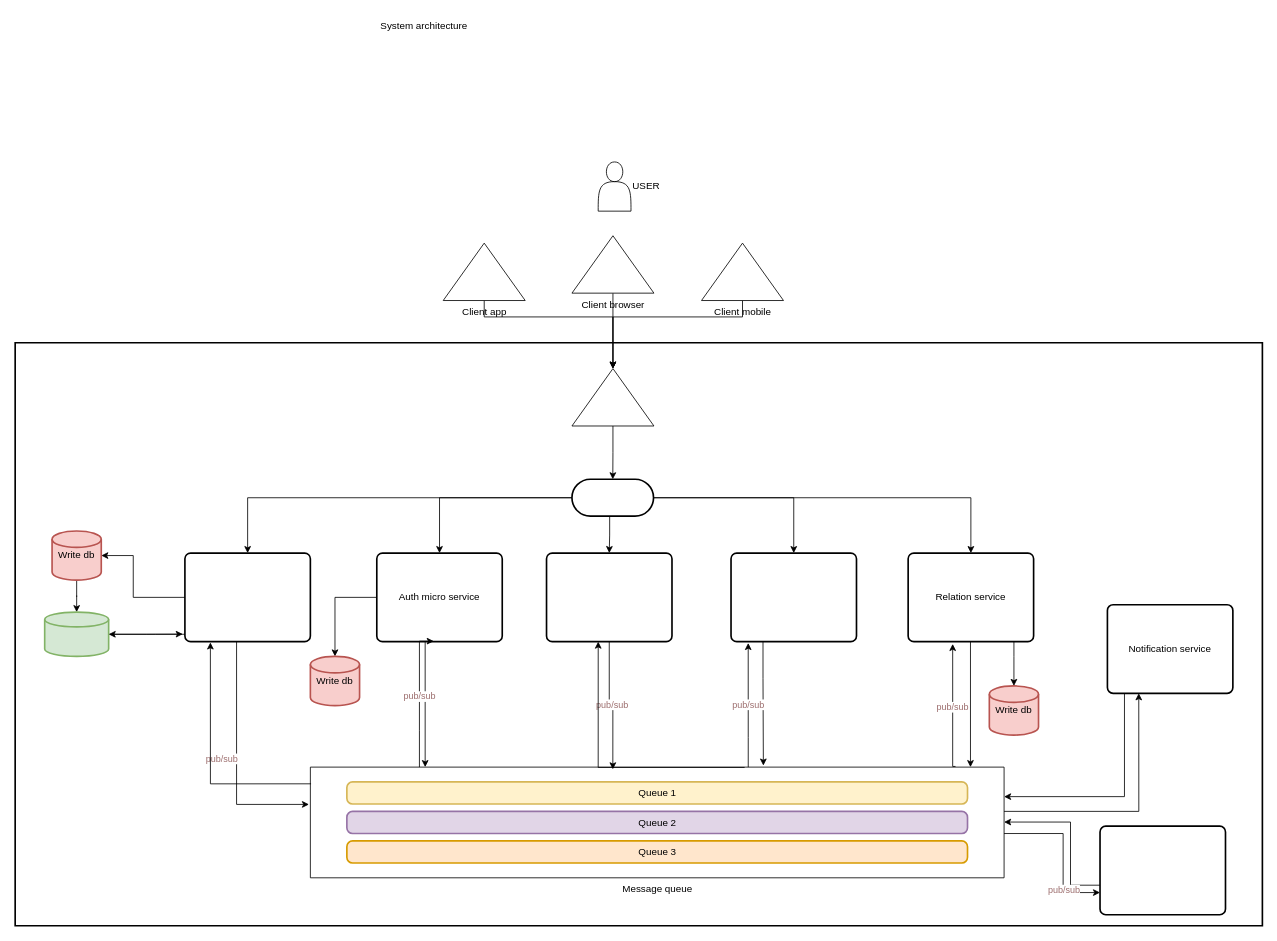
The diagram is 1277 pixels wide and 941 high, and some of its shapes have lost their labels. The centre of each missing label's shape, as x and y in pixels:
"Chat microservice" goes at point (247, 597).
"Load balancer" goes at point (612, 497).
"Read db (elastic search or other)" goes at point (76, 634).
"User micro service" goes at point (608, 597).
"User Status Service" goes at point (1162, 870).
"Voice/video service" goes at point (793, 597).
"Webserver" goes at point (612, 397).
